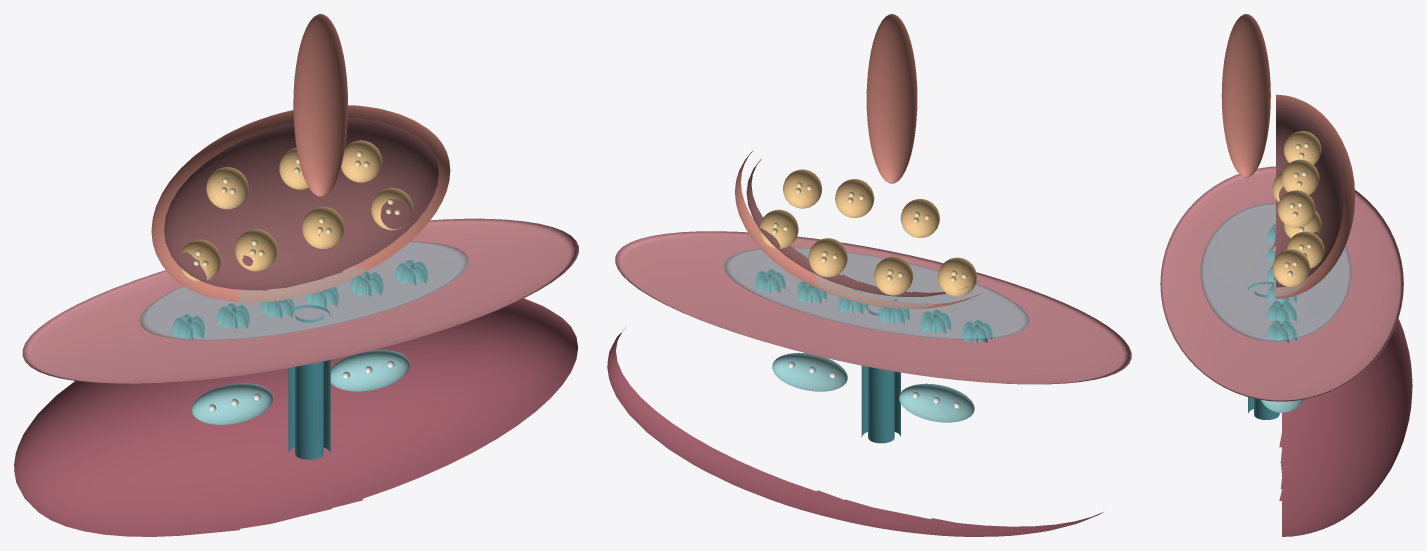
File: neuromuscular_junction.glb
3 views of the same model, side by side, from view 1: azimuth 30°, elevation 25°; view 2: azimuth 150°, elevation 25°; view 3: azimuth 270°, elevation 25° (orthographic). The views are drawn at different scales.
Visible parts, largest first — view 1: MuscleFiber, Sarcolemma, TerminalInterior, SynapticCleft, Terminal, Axon, TTubule, SR_Cisterna_L, SR_Cisterna_R, Vesicle_05, Vesicle_03, Vesicle_07 (+5 smaller); view 2: Sarcolemma, SynapticCleft, MuscleFiber, Axon, TTubule, Terminal, SR_Cisterna_L, SR_Cisterna_R, TerminalInterior, Vesicle_02, Vesicle_03, Vesicle_07 (+4 smaller); view 3: Sarcolemma, MuscleFiber, SynapticCleft, Axon, TerminalInterior, Terminal, Vesicle_07, Vesicle_04, Vesicle_06, Vesicle_05, Vesicle_03, TTubule (+4 smaller).
Boxes of the visible parts, x1,y1,x2,y2 form: MuscleFiber: [14, 298, 578, 536]; Sarcolemma: [22, 218, 578, 383]; TerminalInterior: [164, 118, 438, 290]; SynapticCleft: [139, 241, 468, 340]; Terminal: [151, 105, 450, 303]; Axon: [293, 14, 348, 196]; TTubule: [288, 305, 330, 459]; SR_Cisterna_L: [191, 383, 272, 424]; SR_Cisterna_R: [330, 349, 409, 391]; Vesicle_05: [206, 167, 248, 209]; Vesicle_03: [302, 207, 344, 248]; Vesicle_07: [341, 140, 382, 182]; Sarcolemma: [615, 231, 1131, 384]; SynapticCleft: [723, 247, 1029, 339]; MuscleFiber: [607, 328, 1103, 536]; Axon: [866, 14, 917, 183]; TTubule: [861, 308, 900, 443]; Terminal: [735, 150, 980, 308]; SR_Cisterna_L: [899, 383, 974, 422]; SR_Cisterna_R: [772, 352, 847, 391]; TerminalInterior: [746, 159, 978, 296]; Vesicle_02: [874, 256, 913, 295]; Vesicle_03: [808, 238, 847, 277]; Vesicle_07: [783, 169, 821, 208]; Sarcolemma: [1160, 166, 1403, 401]; MuscleFiber: [1279, 319, 1412, 536]; SynapticCleft: [1200, 203, 1351, 341]; Axon: [1221, 14, 1270, 177]; TerminalInterior: [1274, 106, 1344, 287]; Terminal: [1273, 94, 1355, 298]; Vesicle_07: [1277, 190, 1315, 227]; Vesicle_04: [1272, 249, 1310, 286]; Vesicle_06: [1281, 159, 1319, 194]; Vesicle_05: [1283, 131, 1321, 164]; Vesicle_03: [1287, 231, 1324, 268]; TTubule: [1248, 281, 1285, 419].
Bounding box in the file's own units: 11.2 × 9.96 × 4.93.
